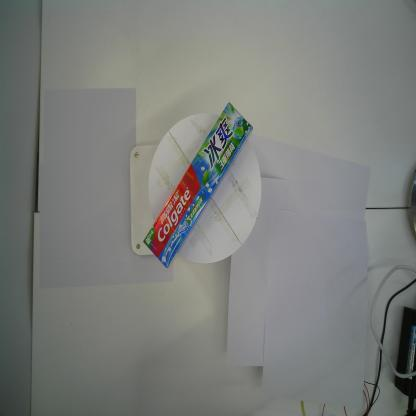Personal Hygiene: (142, 101, 254, 269)
